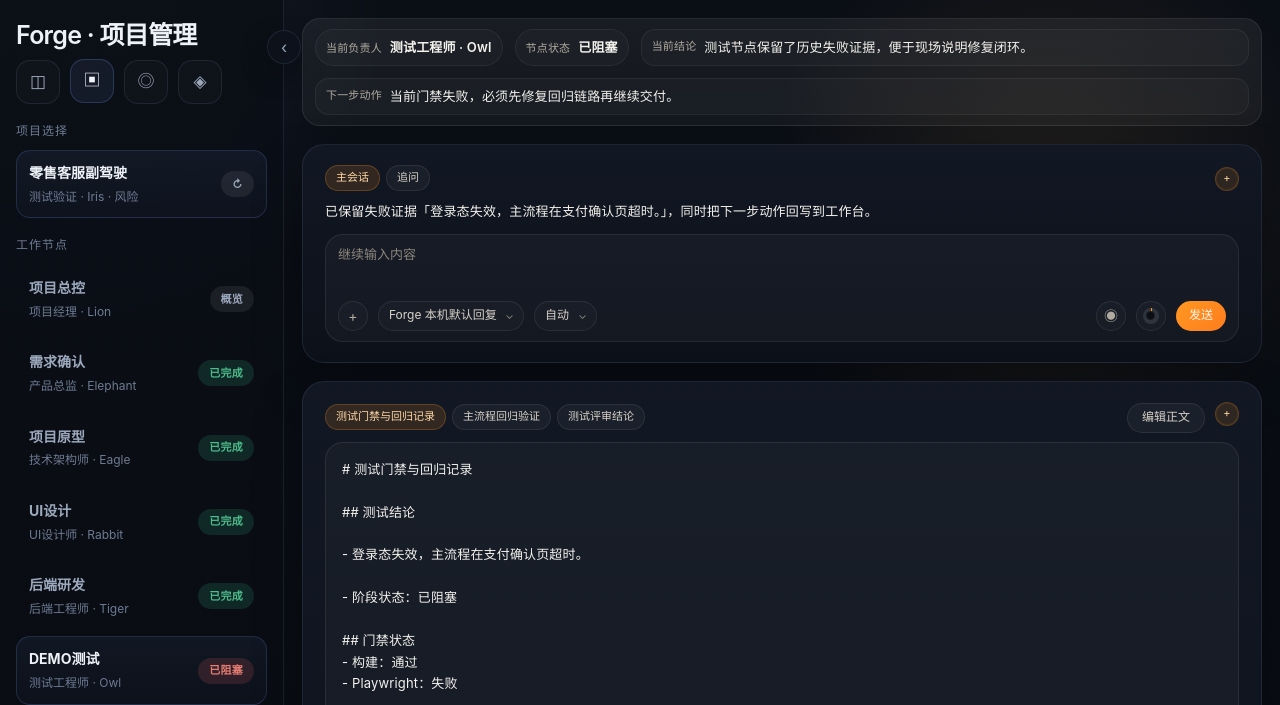
Forge projects page › renders project control log timestamps as concrete time points instead of 刚刚
The width and height of the screenshot is (1280, 705).
Click the button "项目总控 项目经理 · Lion 概览" at x=142, y=299, box [16,265,267,333]
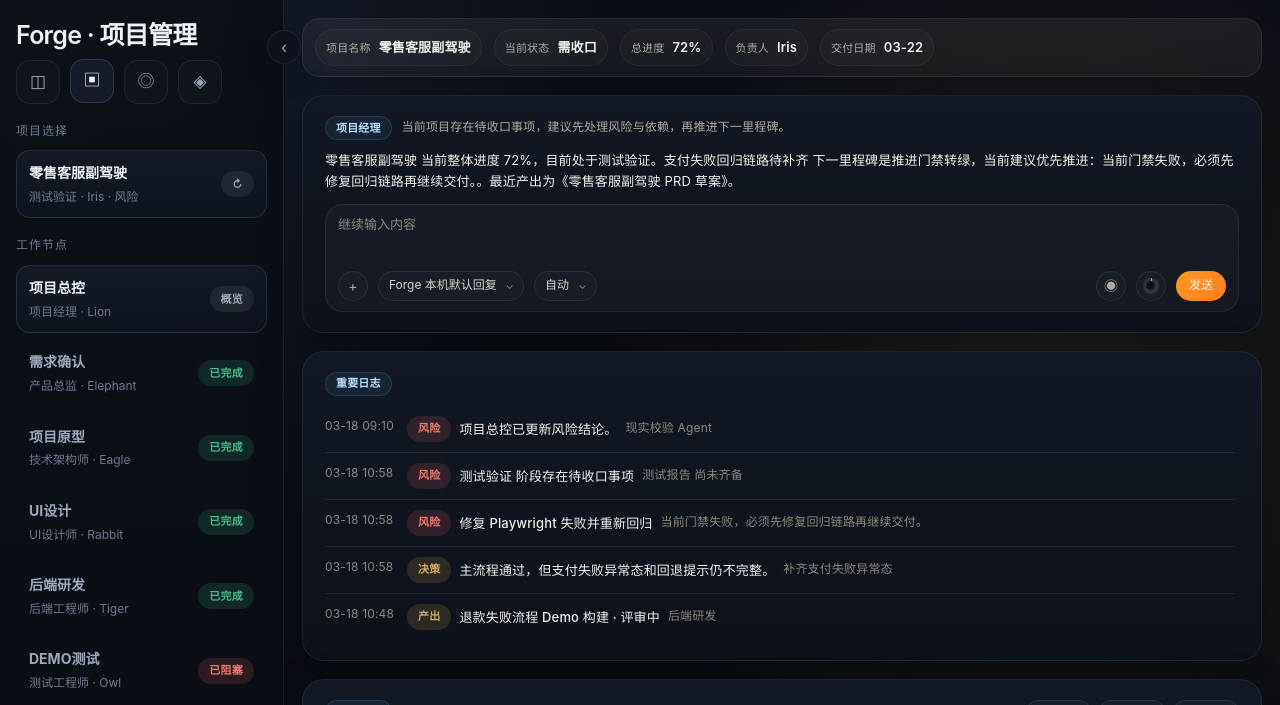
Now the text "03-18 09:10" is shown, box [325,416,397,435]
